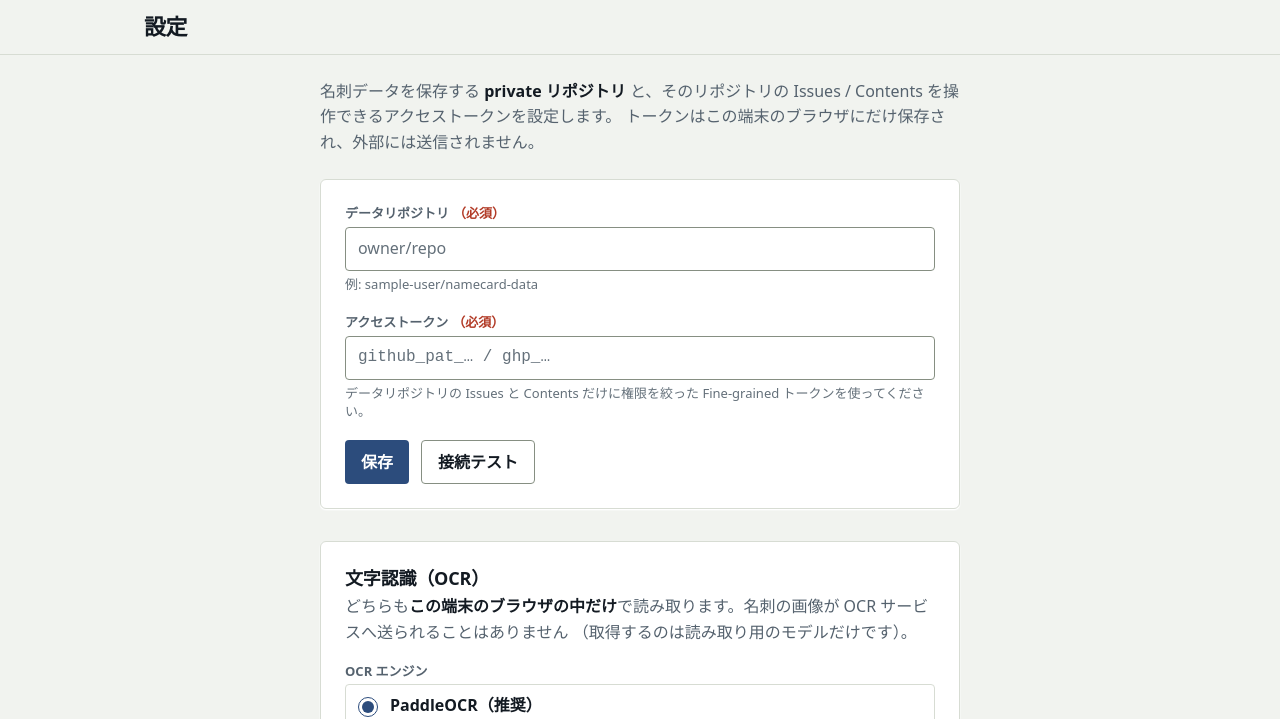
Test: 設定画面 / 接続テストのエラー分岐 › 404 のとき 401 とは別の文言が出る
Type "sample-user/namecard-data" into the field labelled "データリポジトリ（必須）" at (640,249), box [345,227,935,271]
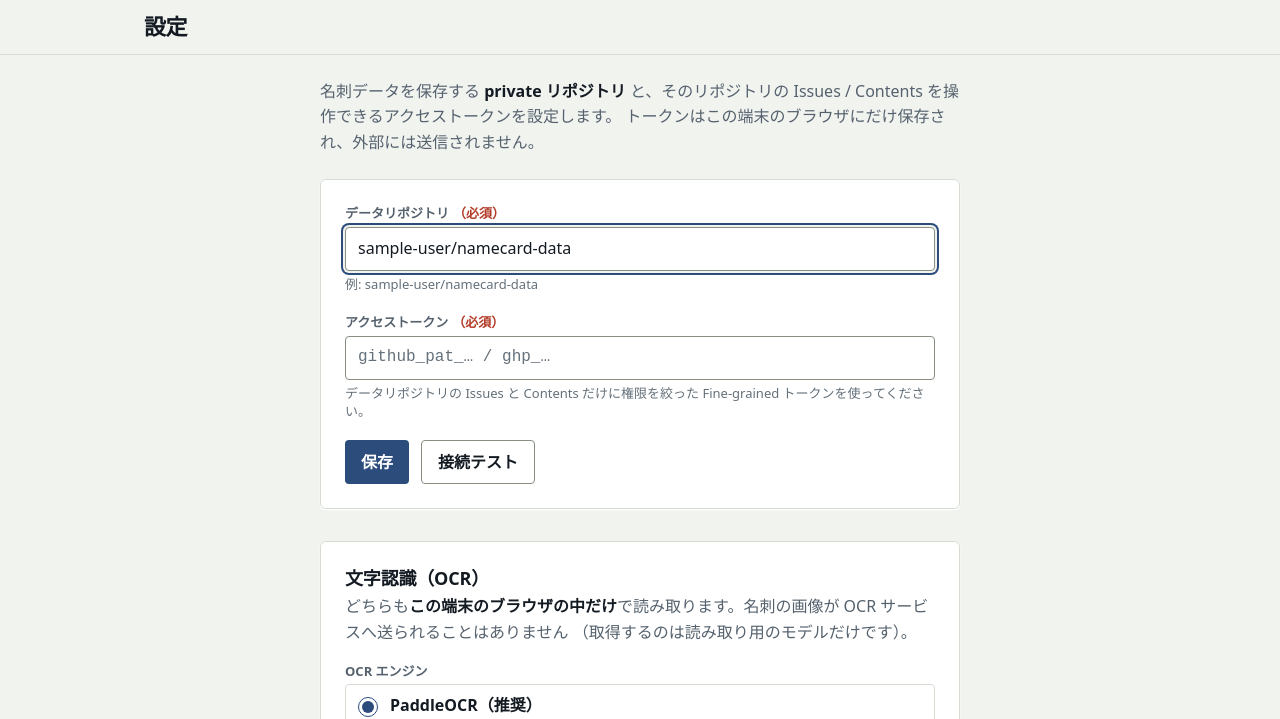
Type "ghp_dummy" into the password field named "アクセストークン" at (640,358), box [345,336,935,380]
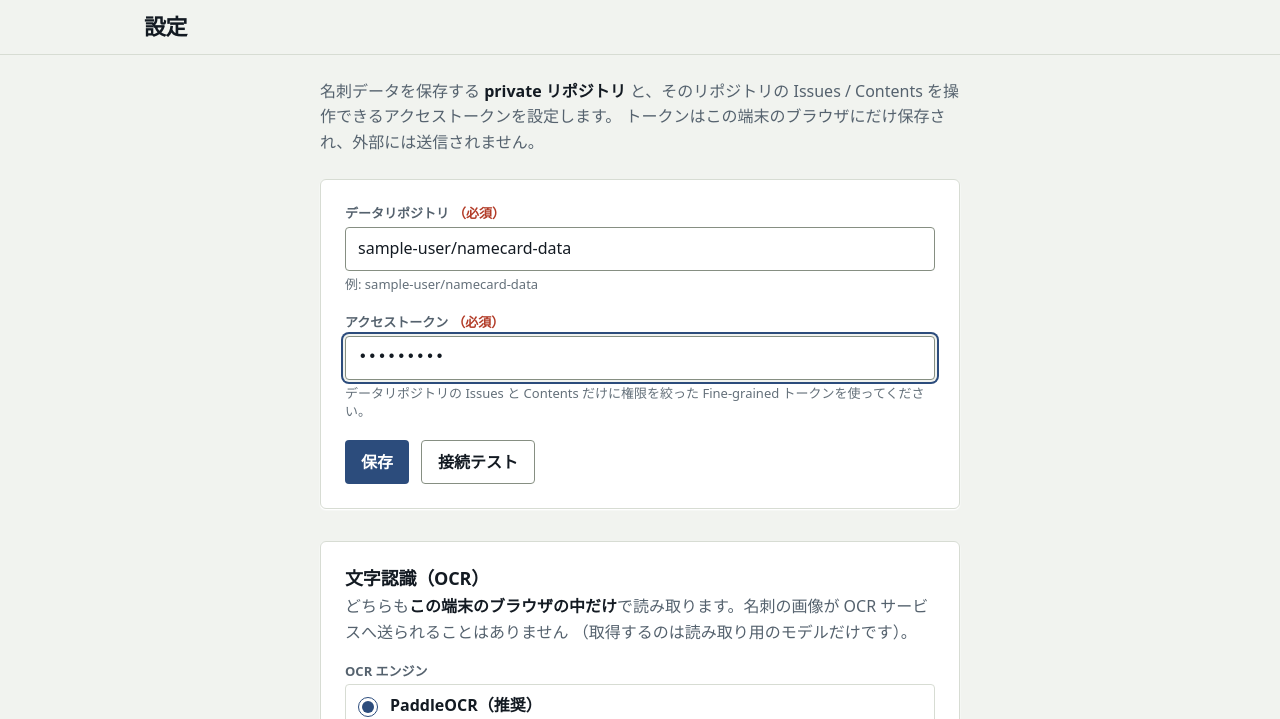
Click the button "接続テスト" at (478,462), box [421,440,535,484]
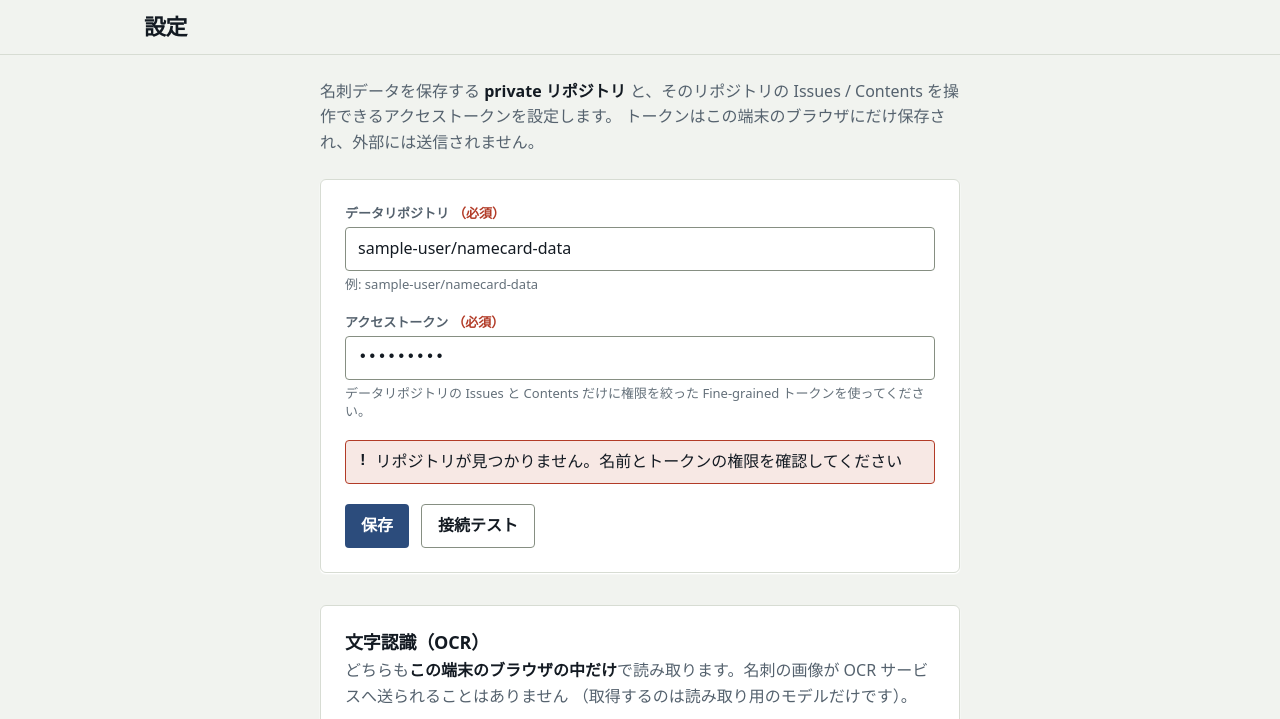
expect the text "リポジトリが見つかりません。名前とトークンの権限を確認してください" is shown: met, box [376,449,902,475]
